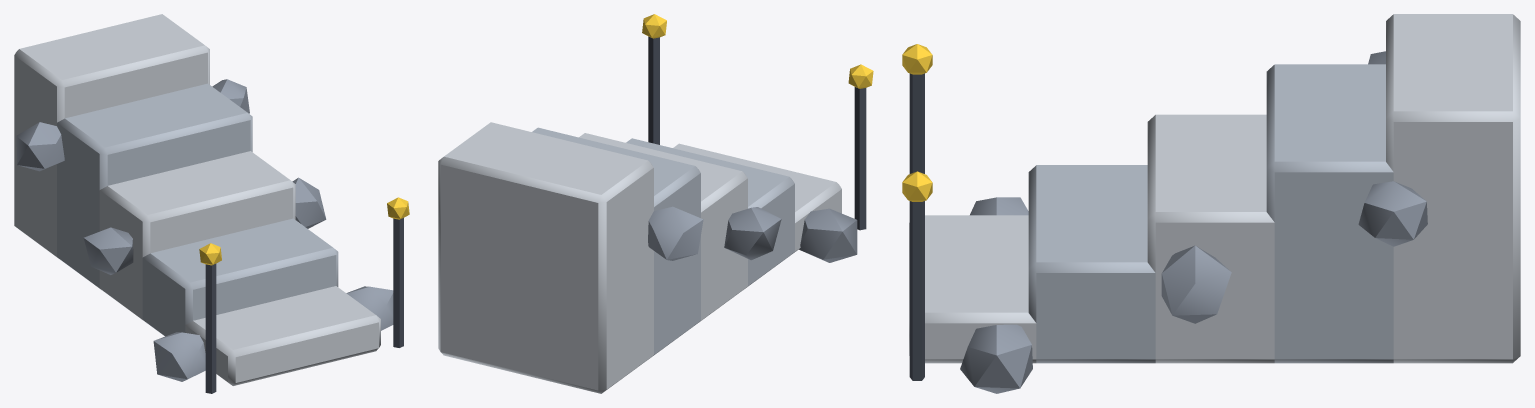
File: home_stairs.fbx
The picture shows the model from 3 angles, left to right: view 1: azimuth 30°, elevation 25°; view 2: azimuth 150°, elevation 25°; view 3: azimuth 270°, elevation 25°; orthographic projection. The views are drawn at different scales.
Parts seen in each view (by area): view 1: home_stairs; view 2: home_stairs; view 3: home_stairs.
Part boxes in pixels (x1,y1,x2,y2): home_stairs: (14,14,409,393); home_stairs: (438,14,873,393); home_stairs: (902,14,1520,393).
Bounding box in the file's own units: 0.9615 × 0.7437 × 1.56.
